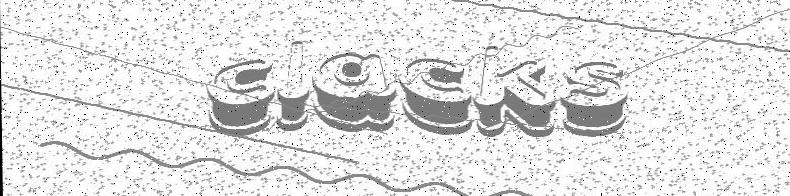a: (310, 49, 399, 134)
c: (399, 53, 475, 137), (202, 52, 276, 138)
k: (472, 42, 557, 141)
l: (272, 37, 315, 134)
s: (556, 57, 631, 141)
